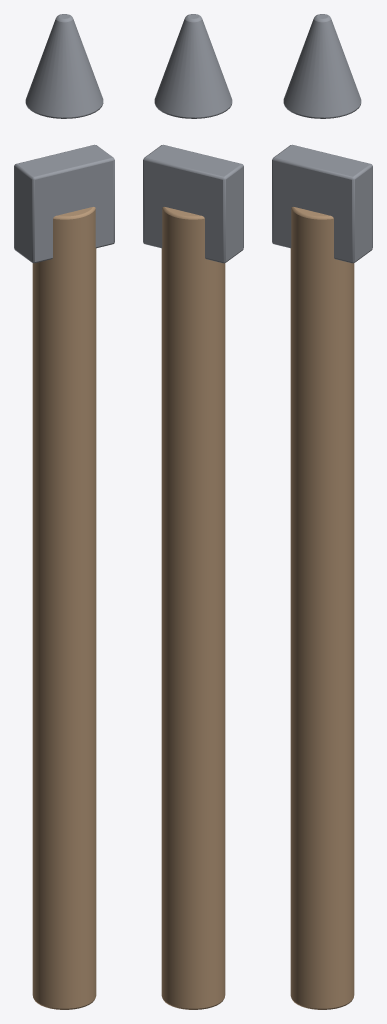
The model's file is SM_EQP_MULTI_TOOL.fbx.
3 views of the same model, side by side, from view 1: azimuth 30°, elevation 25°; view 2: azimuth 150°, elevation 25°; view 3: azimuth 330°, elevation 25° (orthographic).
Parts seen in each view (by area): view 1: SM_EQP_MULTI_TOOL; view 2: SM_EQP_MULTI_TOOL; view 3: SM_EQP_MULTI_TOOL.
Part boxes in pixels (x1=…): SM_EQP_MULTI_TOOL: x1=14, y1=14, x2=114, y2=1009; SM_EQP_MULTI_TOOL: x1=143, y1=14, x2=243, y2=1009; SM_EQP_MULTI_TOOL: x1=272, y1=14, x2=372, y2=1009.
Size of what is drawn, in the model's own units: 0.06 by 0.68 by 0.0491.
